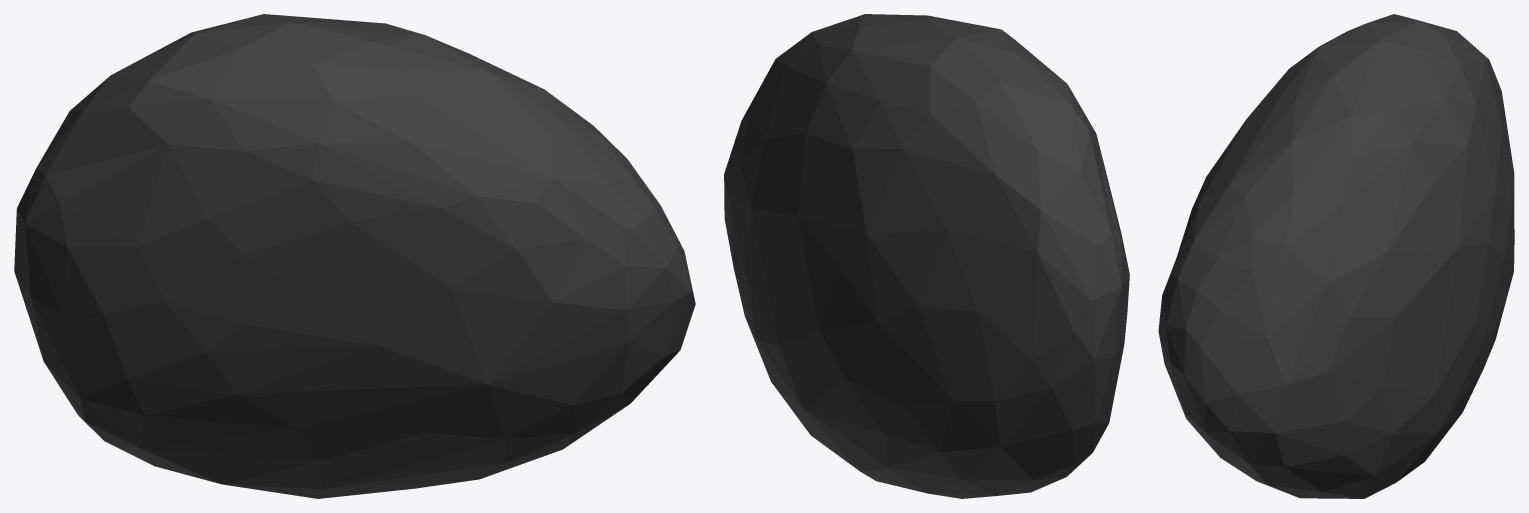
File: node_lymph_colic_R_LP.glb
3 renders of one model, left to right at view 1: azimuth 30°, elevation 25°; view 2: azimuth 150°, elevation 25°; view 3: azimuth 270°, elevation 25°, orthographic. The views are drawn at different scales.
Visible parts, largest first — view 1: node_lymph_colic_R_LP; view 2: node_lymph_colic_R_LP; view 3: node_lymph_colic_R_LP.
Part boxes in pixels (left/top/right/bottom): node_lymph_colic_R_LP: left=14, top=14, right=695, bottom=498; node_lymph_colic_R_LP: left=724, top=14, right=1129, bottom=498; node_lymph_colic_R_LP: left=1158, top=14, right=1514, bottom=498.
Size of the model in its own units: 0.2164 by 0.1883 by 0.1483.
1 material, 1 textured.
